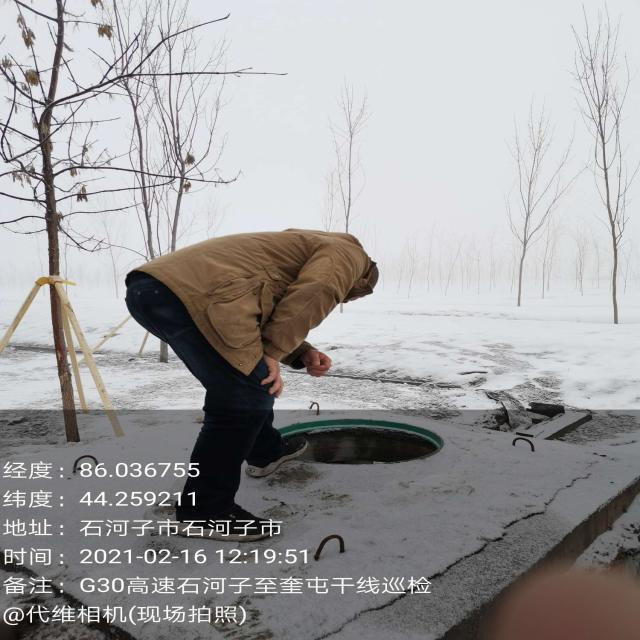manhole: (251, 416, 446, 478)
